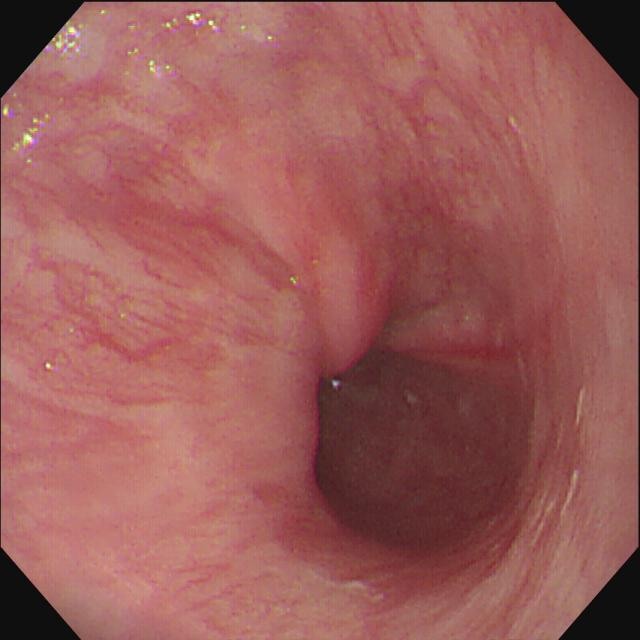A: (259, 482, 355, 559)
J: (559, 469, 581, 524), (574, 384, 588, 428)
U: (14, 115, 54, 151), (46, 23, 82, 54)
